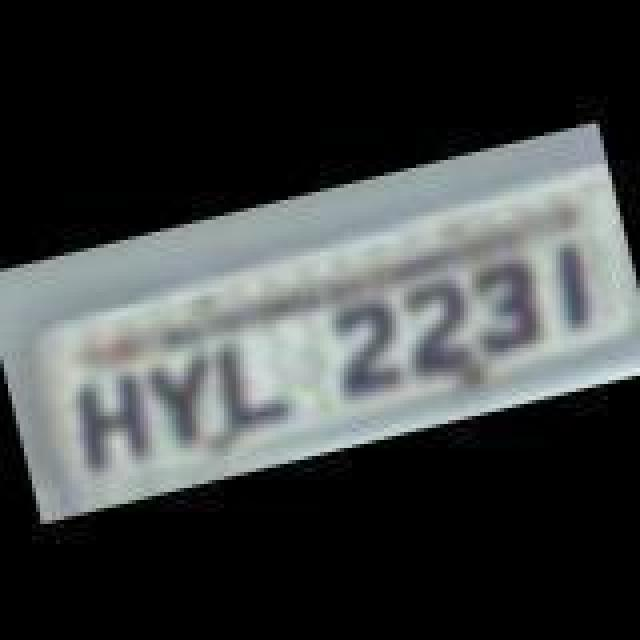1: (544, 236, 600, 332)
2: (322, 288, 414, 400), (390, 274, 482, 382)
3: (462, 252, 546, 356)
H: (68, 370, 156, 478)
L: (202, 324, 294, 436)
Y: (138, 344, 230, 456)
